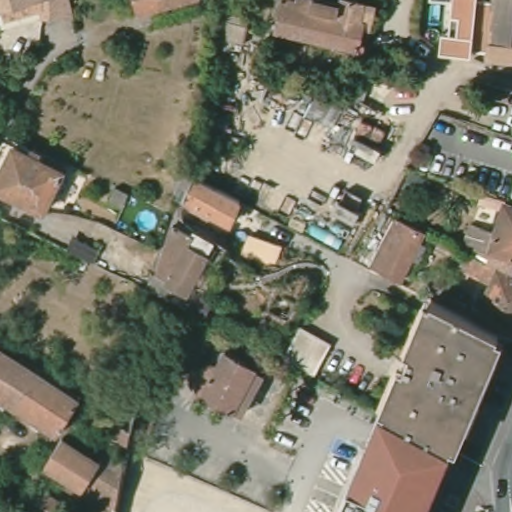pool: (134, 209, 161, 235)
